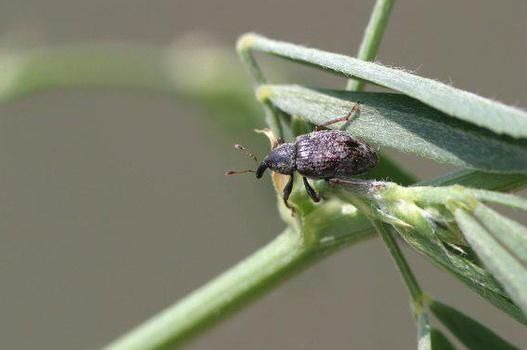weevils: (208, 84, 400, 233)
